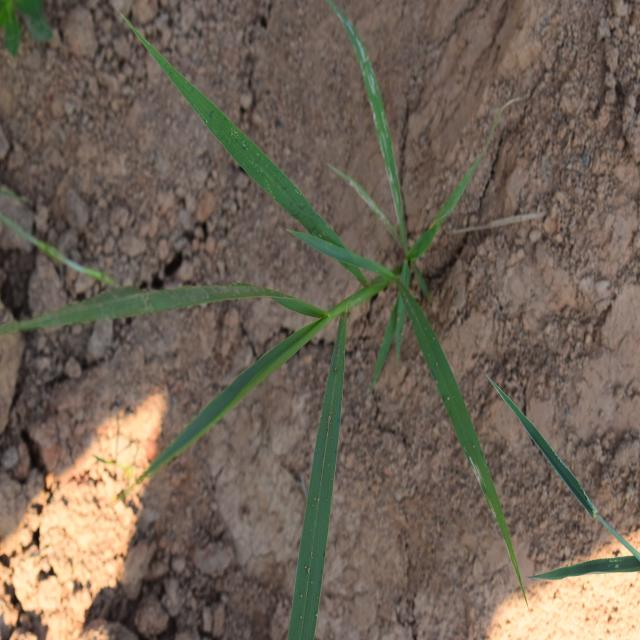green_foxtail: (104, 52, 502, 571)
